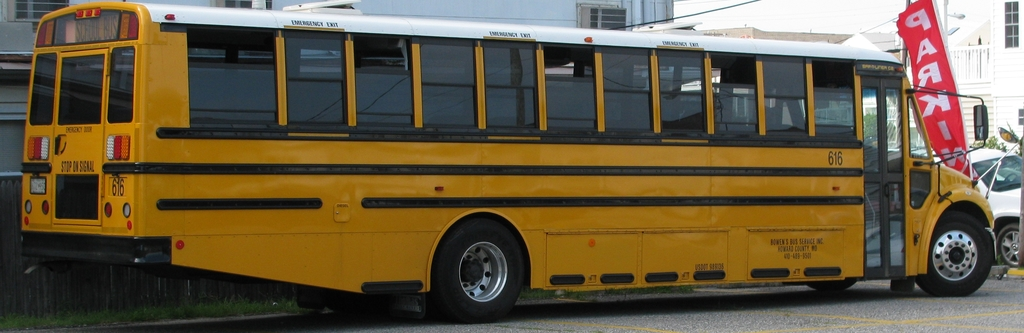Bus: (19, 0, 1023, 322)
